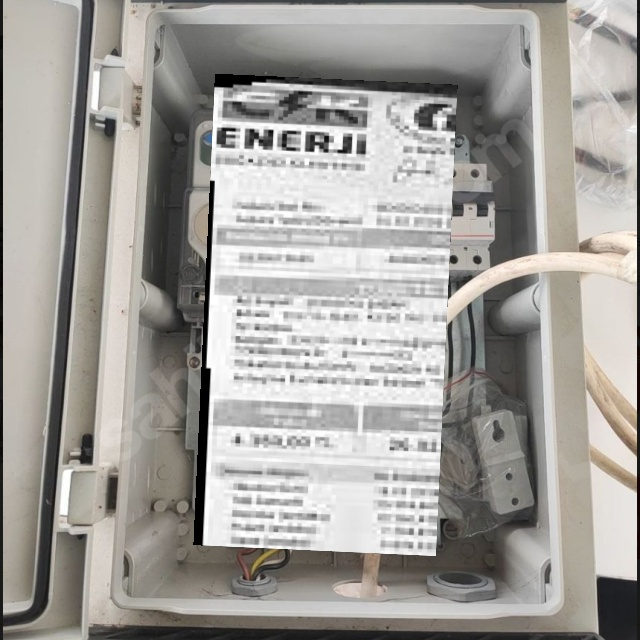electricity-bill: (192, 73, 457, 555)
